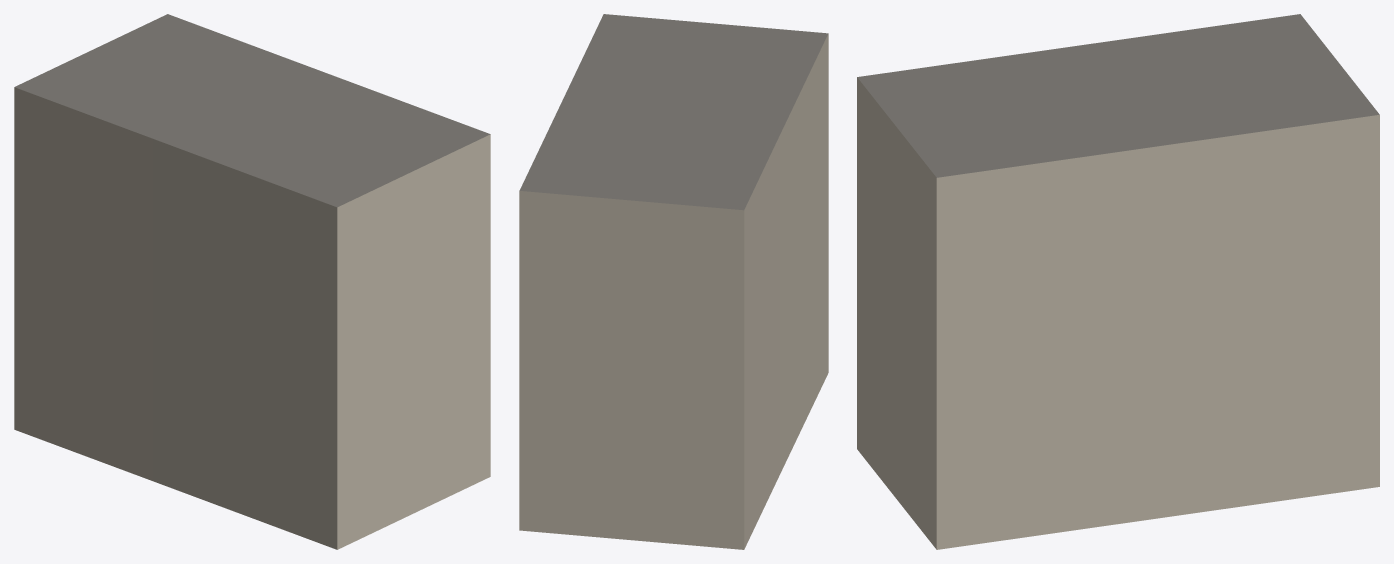
3 renders of one model, left to right at view 1: azimuth 30°, elevation 25°; view 2: azimuth 150°, elevation 25°; view 3: azimuth 270°, elevation 25°, orthographic. The views are drawn at different scales.
Parts seen in each view (by area): view 1: HP-w1198050074; view 2: HP-w1198050074; view 3: HP-w1198050074.
Boxes of the visible parts, bbox=[...] form: HP-w1198050074: bbox=[14, 14, 490, 549]; HP-w1198050074: bbox=[519, 14, 828, 549]; HP-w1198050074: bbox=[857, 14, 1379, 549].
Size of the model in its own units: 17 by 18 by 22.92.
